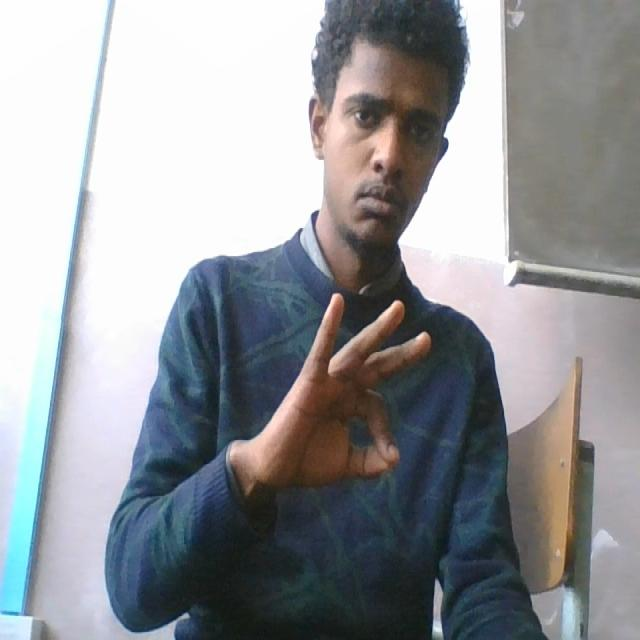wet: (246, 290, 437, 499)
